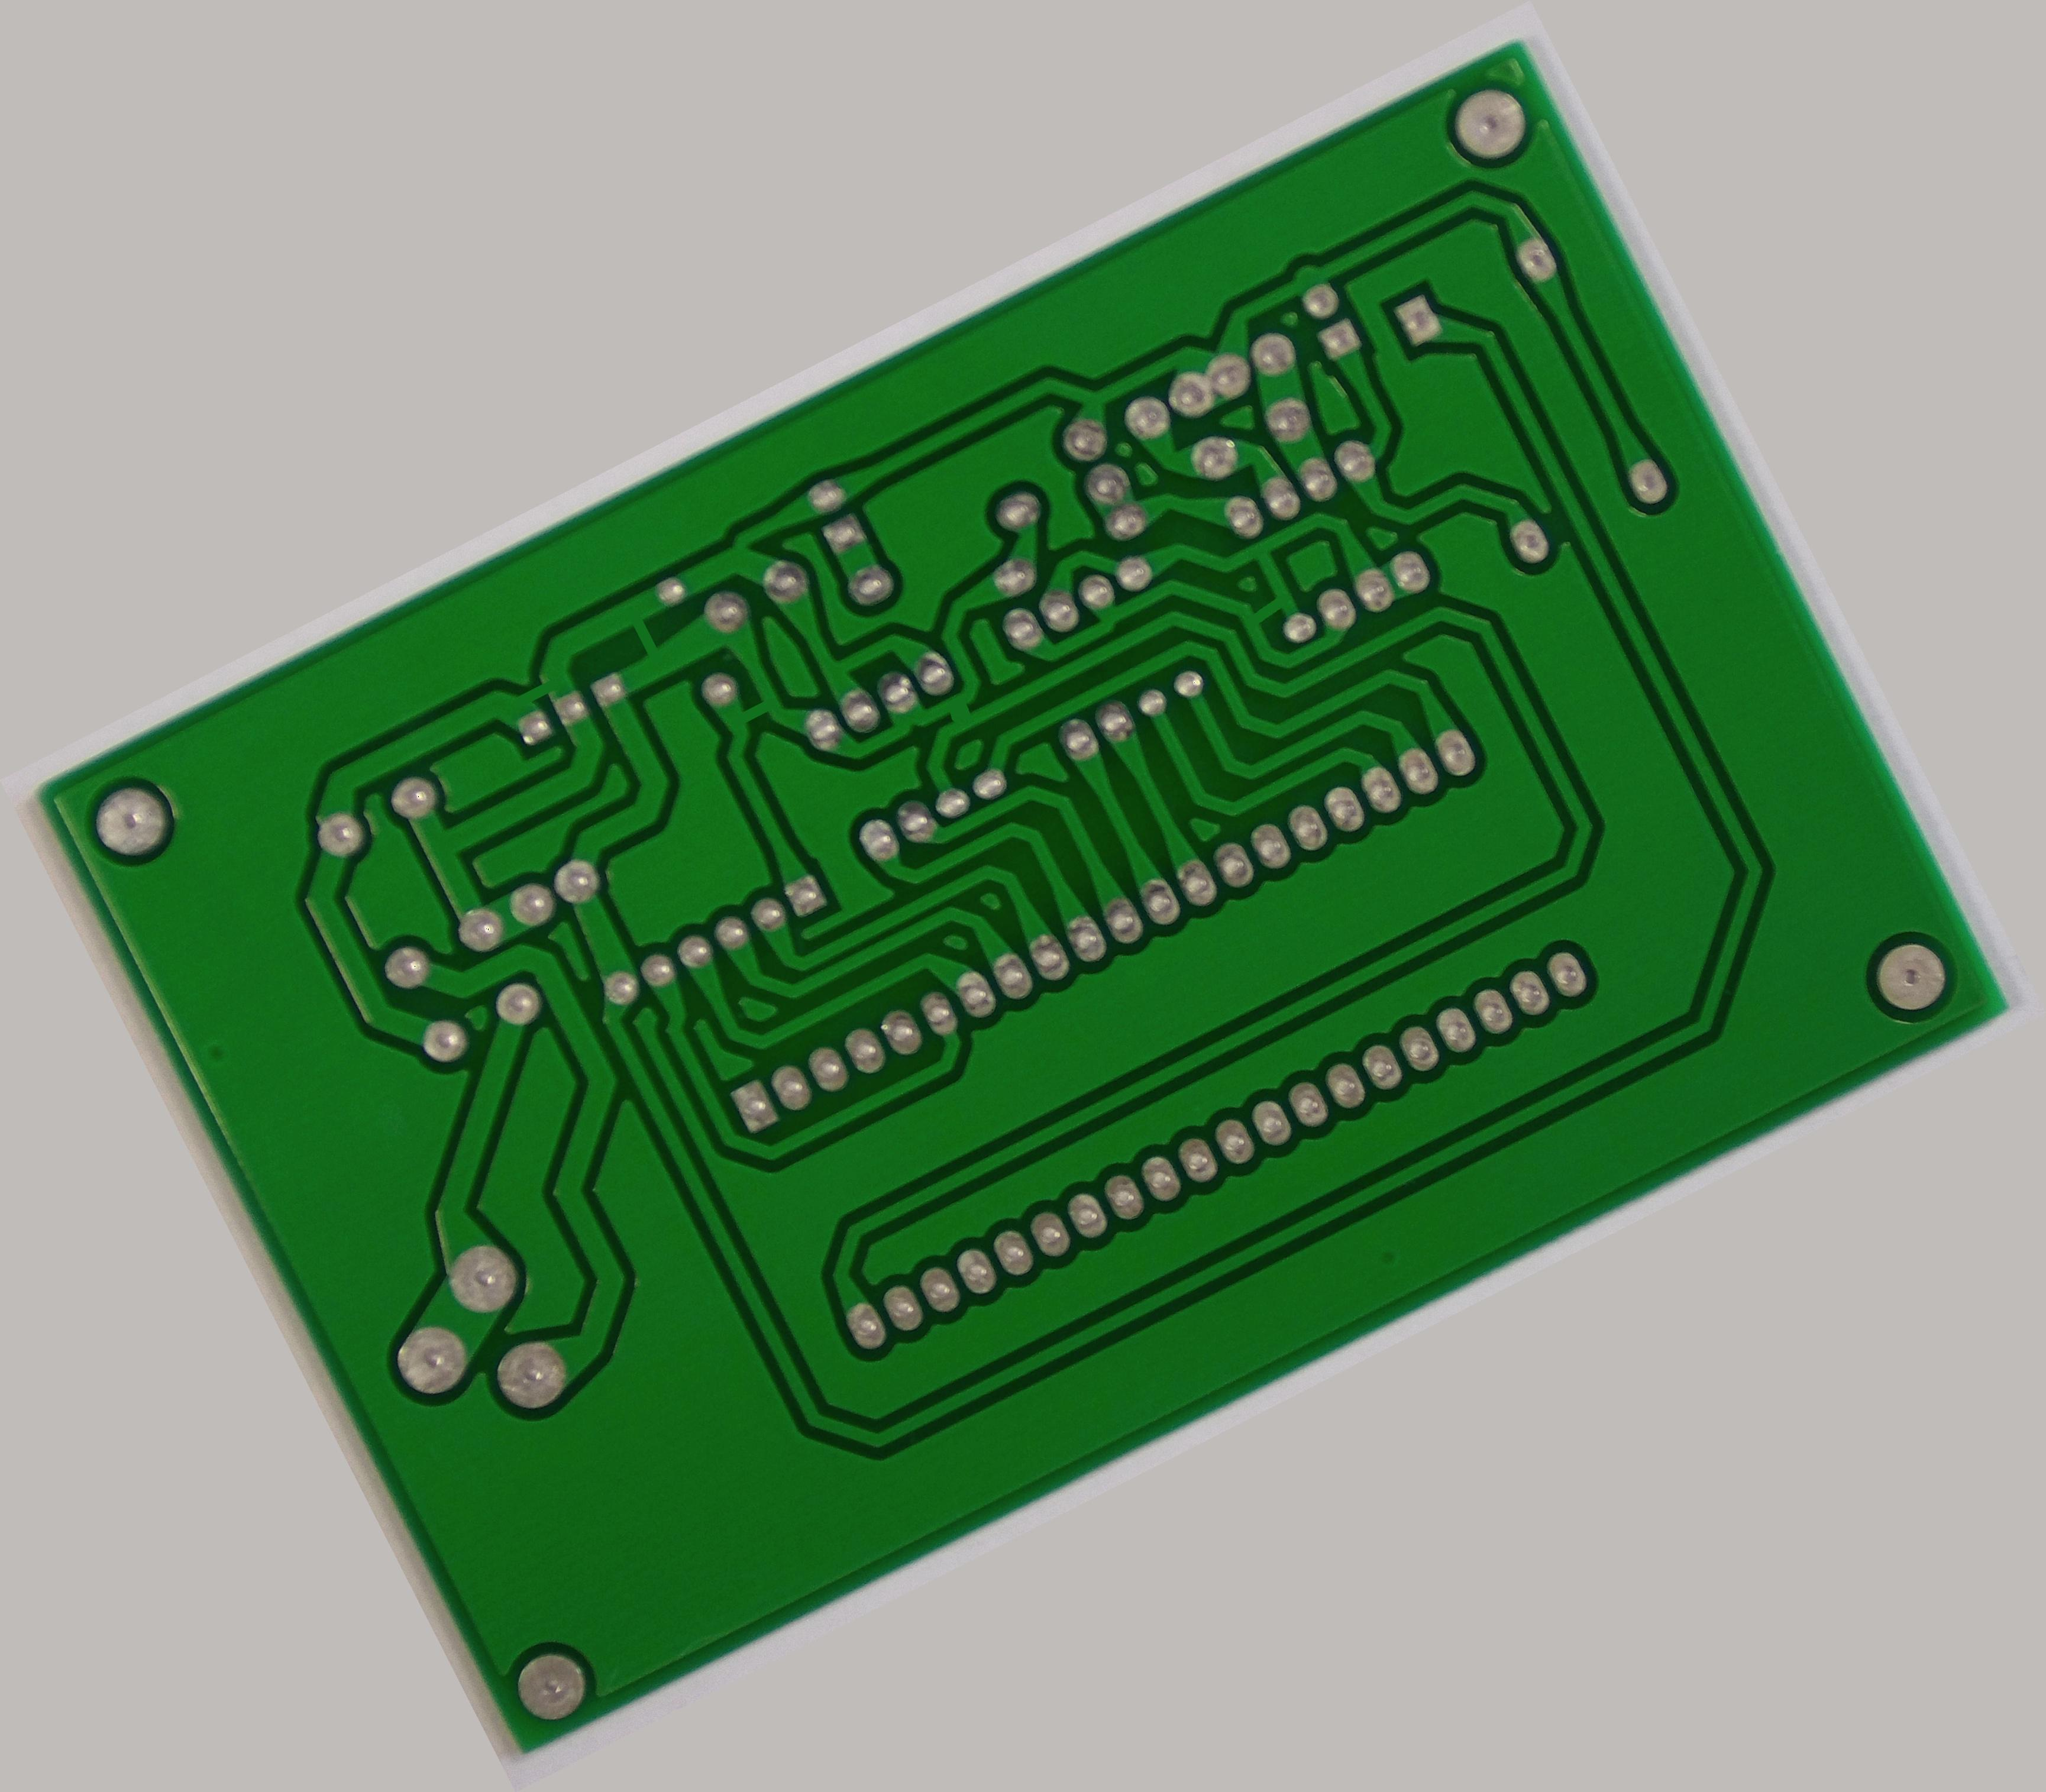short: (708, 665, 793, 753), (494, 656, 581, 739), (1228, 572, 1312, 652), (605, 602, 682, 677), (920, 679, 995, 750)
